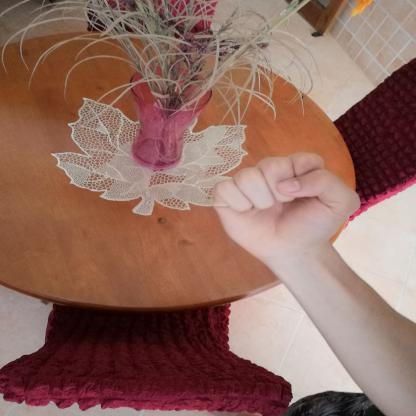SAD: (199, 143, 376, 272)
